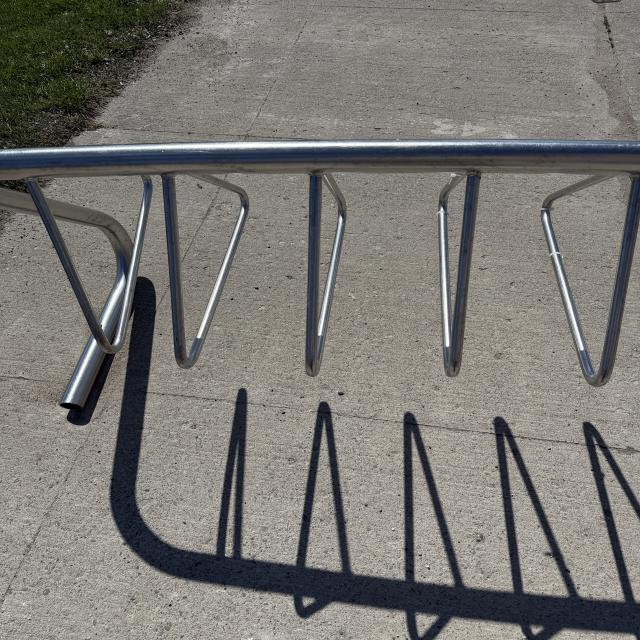Bicycle Rack: (4, 142, 640, 408)
